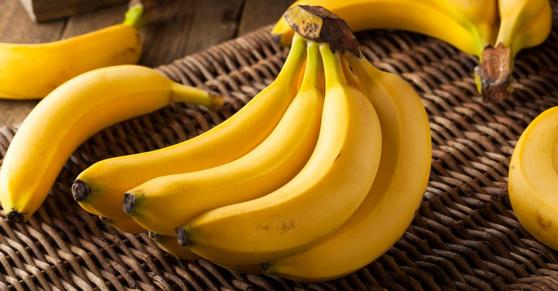banana: (300, 59, 441, 284), (3, 66, 193, 218)
